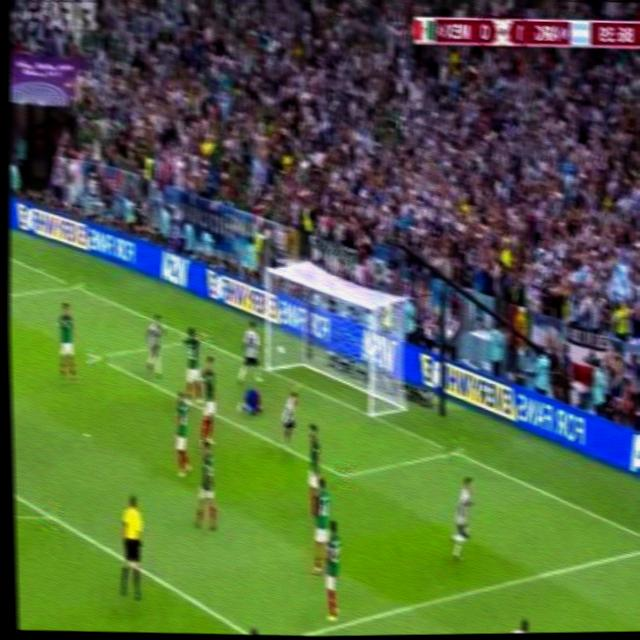bigarea_top_outter: (64, 272, 85, 295)
bottom_arc_area_intersection: (36, 498, 64, 531)
smallarea_bottom_inner: (330, 459, 356, 489)
smallarea_bottom_outter: (442, 435, 466, 465)
smallarea_top_inner: (86, 344, 108, 367)
smallarea_top_outter: (190, 326, 212, 349)
